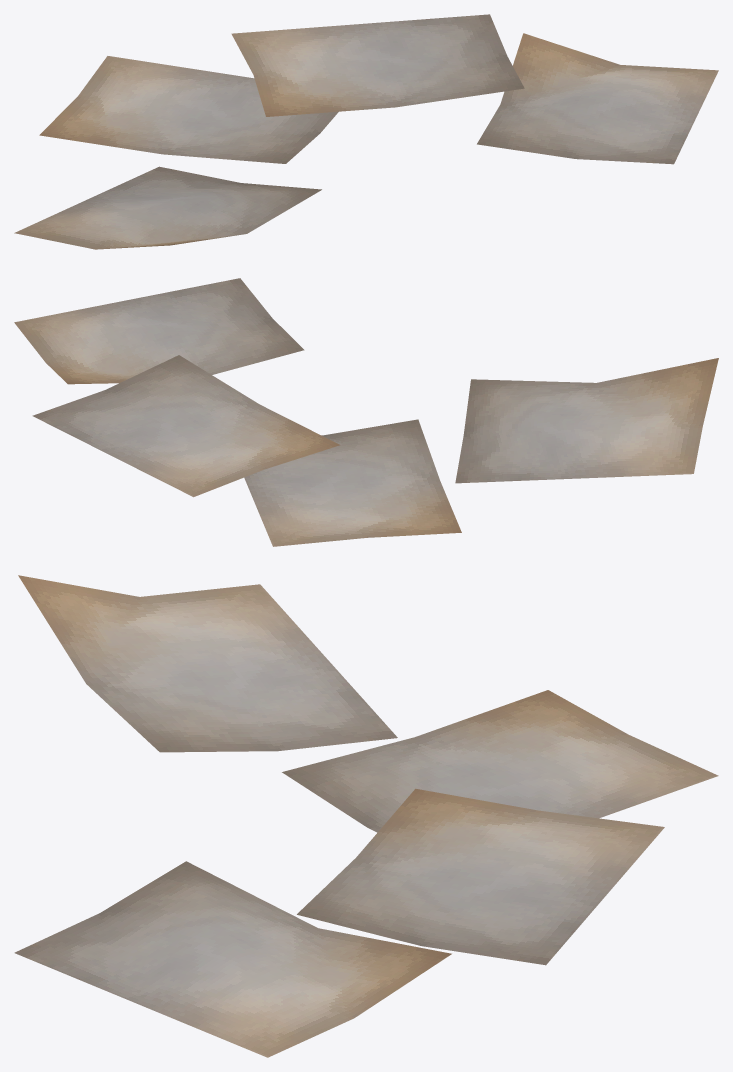
The model's file is a_paper03.glb.
The picture shows the model from 3 angles, top to bottom: view 1: azimuth 30°, elevation 25°; view 2: azimuth 150°, elevation 25°; view 3: azimuth 270°, elevation 25°; orthographic projection. The views are drawn at different scales.
Parts seen in each view (by area): view 1: a_paper03; view 2: a_paper03; view 3: a_paper03.
Boxes of the visible parts, x1=… form: a_paper03: x1=14, y1=14, x2=718, y2=249; a_paper03: x1=14, y1=278, x2=718, y2=546; a_paper03: x1=14, y1=575, x2=718, y2=1057.
Bounding box in the file's own units: 1.31 × 0.1036 × 0.8547.
Materials: 1 (1 with a texture image).
